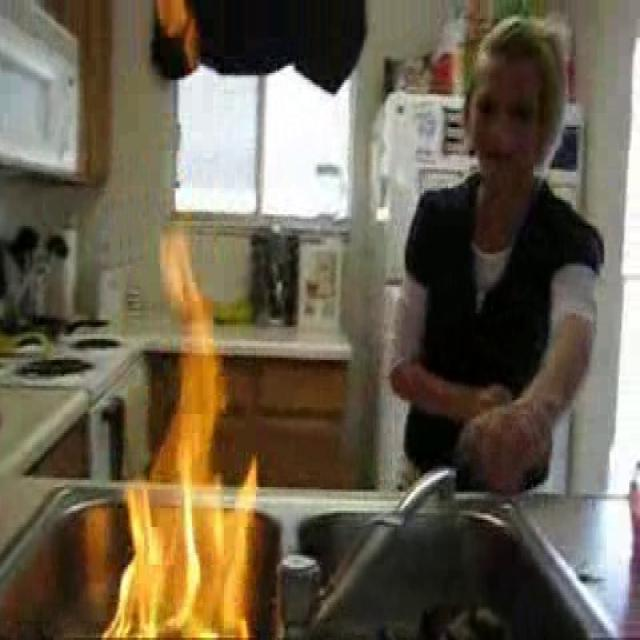fire: (124, 216, 245, 637)
